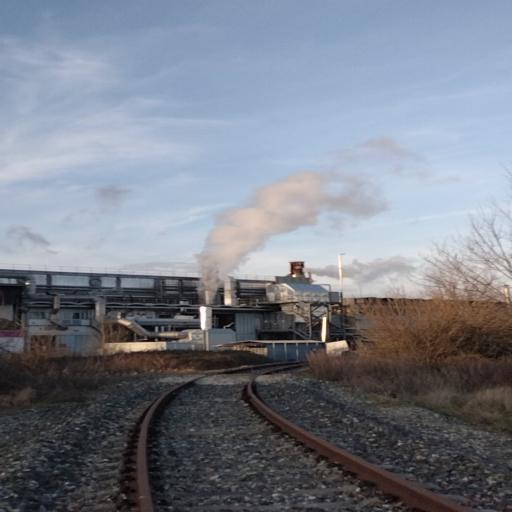leakage: (178, 131, 440, 311), (266, 246, 432, 292)
